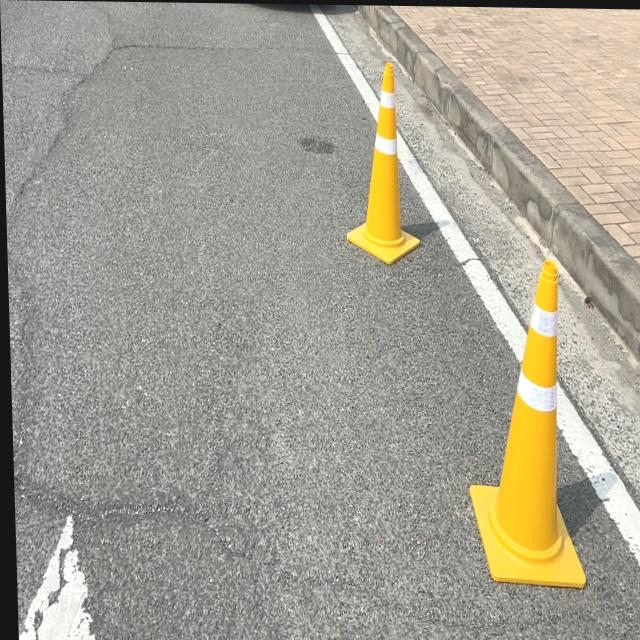y_rub: (468, 258, 583, 586), (346, 60, 419, 262)
